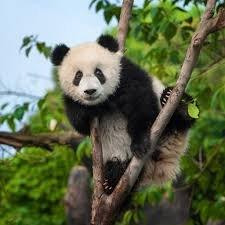bear: (51, 35, 201, 194)
